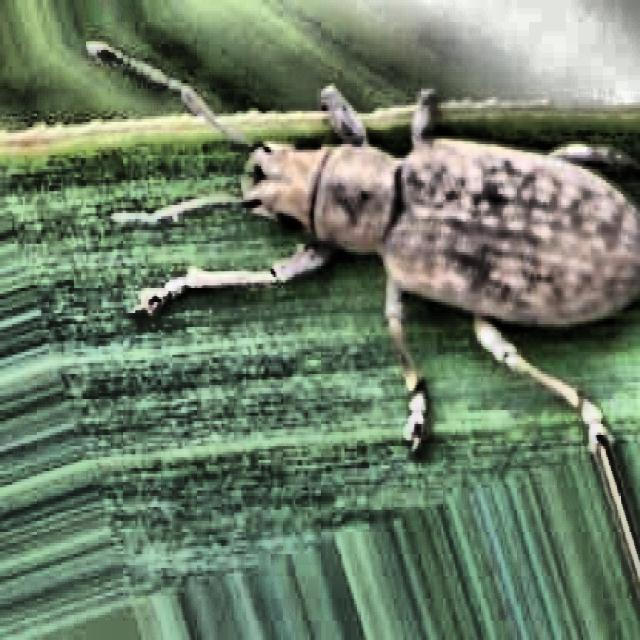Stink bug: (170, 37, 637, 414)
